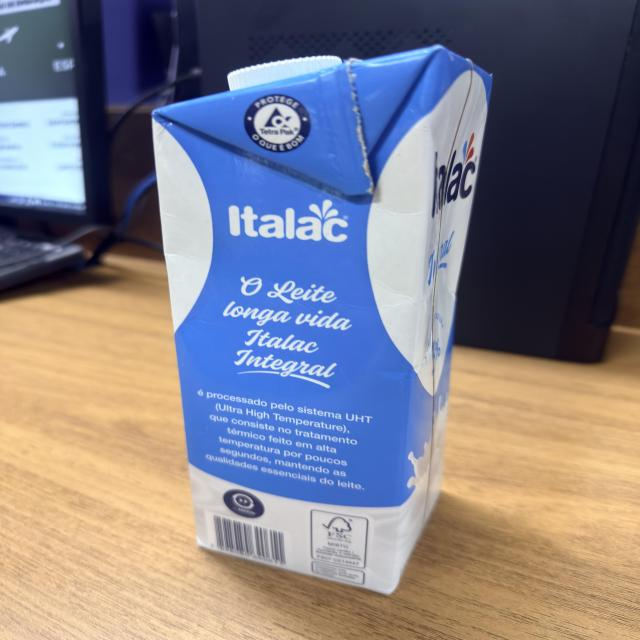Caixa de Leite: (150, 44, 496, 595)
